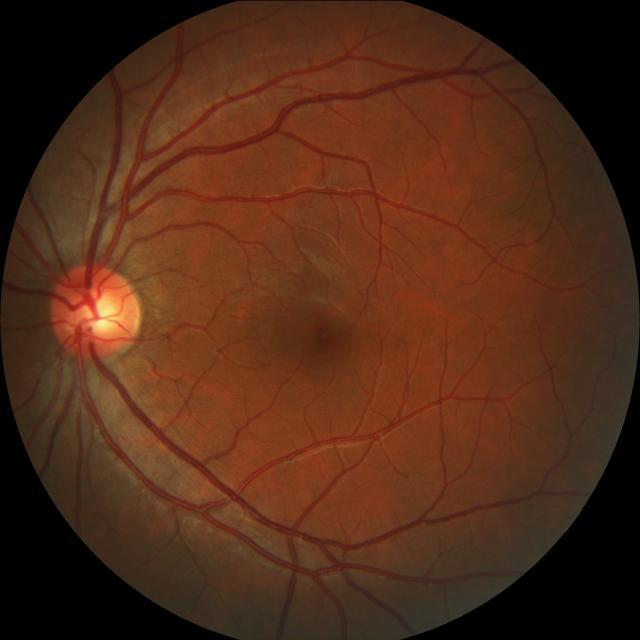OC: (68, 285, 117, 339)
OD: (46, 262, 138, 360)
